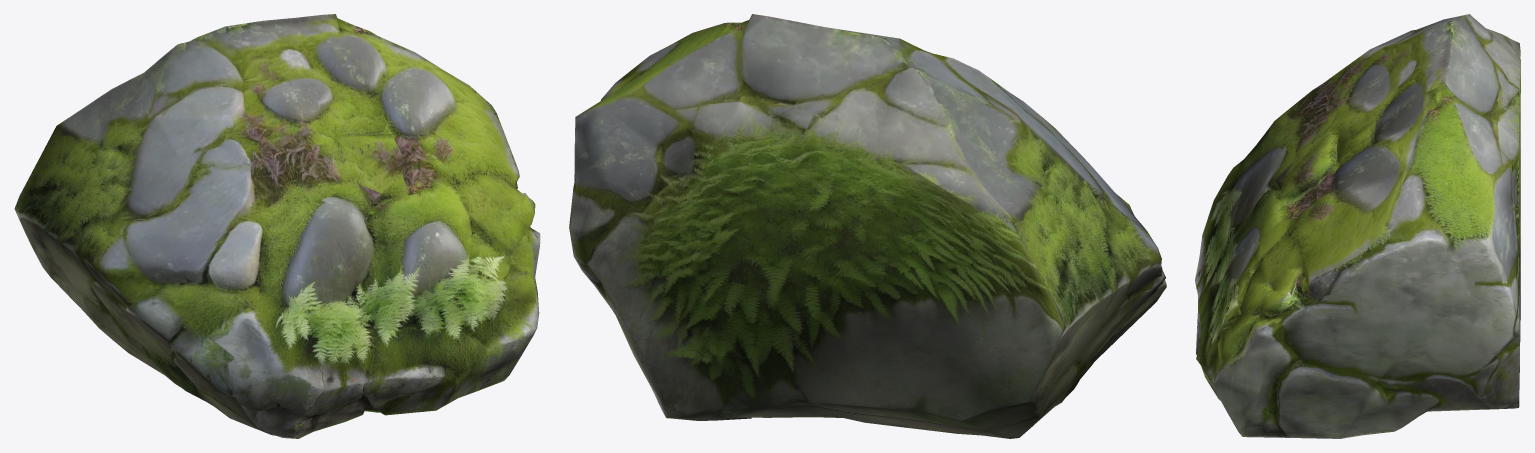
File: rock_mossy_16.glb
The picture shows the model from 3 angles, left to right: view 1: azimuth 30°, elevation 25°; view 2: azimuth 150°, elevation 25°; view 3: azimuth 270°, elevation 25°; orthographic projection. The views are drawn at different scales.
Visible parts, largest first — view 1: mossy_green_rock16_LOW_RES; view 2: mossy_green_rock16_LOW_RES; view 3: mossy_green_rock16_LOW_RES.
Boxes of the visible parts, x1,y1,x2,y2 form: mossy_green_rock16_LOW_RES: (14,14,540,438); mossy_green_rock16_LOW_RES: (569,14,1166,438); mossy_green_rock16_LOW_RES: (1195,14,1520,438).
Size of the model in its own units: 0.9998 by 0.7597 by 0.6742.
Materials: 1 (1 with a texture image).
